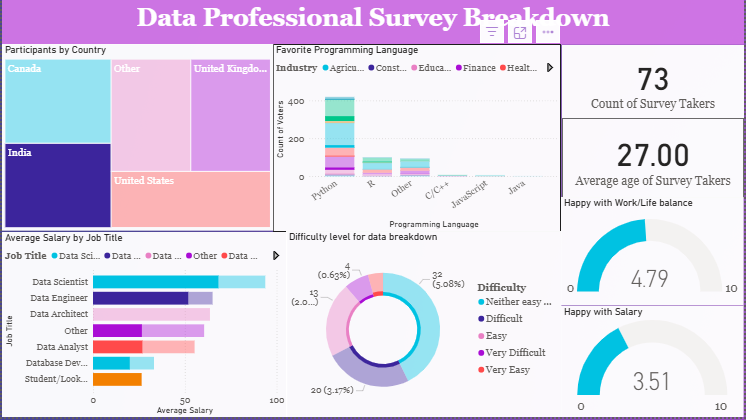

This screenshot's page, from the dashboard's own definition file:
{"tool":"powerbi","page":{"name":"Page 1","canvas":[1280,720],"ordinal":0},"visuals":[{"type":"textbox","box":[0,0,1280,77.3],"z":0},{"type":"card","fields":{"Values":["CountNonNull(Data Professional Survey.Unique ID)"]},"box":[965.9,77.3,314.1,126],"z":1000},{"type":"card","fields":{"Values":["Avg(Data Professional Survey.Q10 - Current Age)"]},"box":[965.9,203.3,314.1,137.7],"z":2000},{"type":"barChart","title":"Average Salary by Job Title","fields":{"Category":["Data Professional Survey.Q1 - Which Title Best Fits your Current Role?.1"],"Y":["Avg(Data Professional Survey.Average Salary)"],"Series":["Data Professional Survey.Q1 - Which Title Best Fits your Current Role?.1"]},"box":[0,400,491.9,320],"z":3000},{"type":"columnChart","title":"Favorite Programming Language","fields":{"Category":["Data Professional Survey.Q5 - Favorite Programming Language.1"],"Y":["CountNonNull(Data Professional Survey.Unique ID)"],"Series":["Data Professional Survey.Q4 - What Industry do you work in?.1"]},"box":[468.1,76.6,497,323.4],"z":4000},{"type":"treemap","title":"Participants by Country","fields":{"Group":["Data Professional Survey.Q11 - Which Country do you live in?.1"],"Values":["Count(Data Professional Survey.Q11 - Which Country do you live in?.1)"]},"box":[0,76.6,468.1,321.7],"z":5000},{"type":"gauge","title":"Happy with Work/Life balance","fields":{"Y":["Avg(Data Professional Survey.Q6 - How Happy are you in your Current Position with the following? (Work/Life Balance))"],"MinValue":["Min(Data Professional Survey.Q6 - How Happy are you in your Current Position with the following? (Work/Life Balance))"],"MaxValue":["Max(Data Professional Survey.Q6 - How Happy are you in your Current Position with the following? (Work/Life Balance))"]},"box":[965.1,340.4,314.9,187.2],"z":6000},{"type":"gauge","title":"Happy with Salary","fields":{"Y":["Avg(Data Professional Survey.Q6 - How Happy are you in your Current Position with the following? (Salary))"],"MinValue":["Min(Data Professional Survey.Q6 - How Happy are you in your Current Position with the following? (Salary))1"],"MaxValue":["Max(Data Professional Survey.Q6 - How Happy are you in your Current Position with the following? (Salary))2"]},"box":[965.1,527.7,314.9,192.3],"z":7000},{"type":"donutChart","title":"Difficulty level for data breakdown","fields":{"Category":["Data Professional Survey.Q7 - How difficult was it for you to break into Data?"],"Y":["CountNonNull(Data Professional Survey.Q7 - How difficult was it for you to break into Data?)"],"Series":["Data Professional Survey.Q7 - How difficult was it for you to break into Data?"]},"box":[490.2,398.3,474.9,321.7],"z":8000}]}

Visuals, with their boxes in screenshot pixels (x1, y1, x2, y2), scaled from the page's 1280x720 canvas onto the 746x420 screenshot:
textbox: 0,0,745,45
card - CountNonNull(Data Professional Survey.Unique ID): 563,45,745,119
card - Avg(Data Professional Survey.Q10 - Current Age): 563,119,745,199
"Average Salary by Job Title" barChart: 0,233,287,419
"Favorite Programming Language" columnChart: 273,45,562,233
"Participants by Country" treemap: 0,45,273,232
"Happy with Work/Life balance" gauge: 562,199,745,308
"Happy with Salary" gauge: 562,308,745,419
"Difficulty level for data breakdown" donutChart: 286,232,562,419
